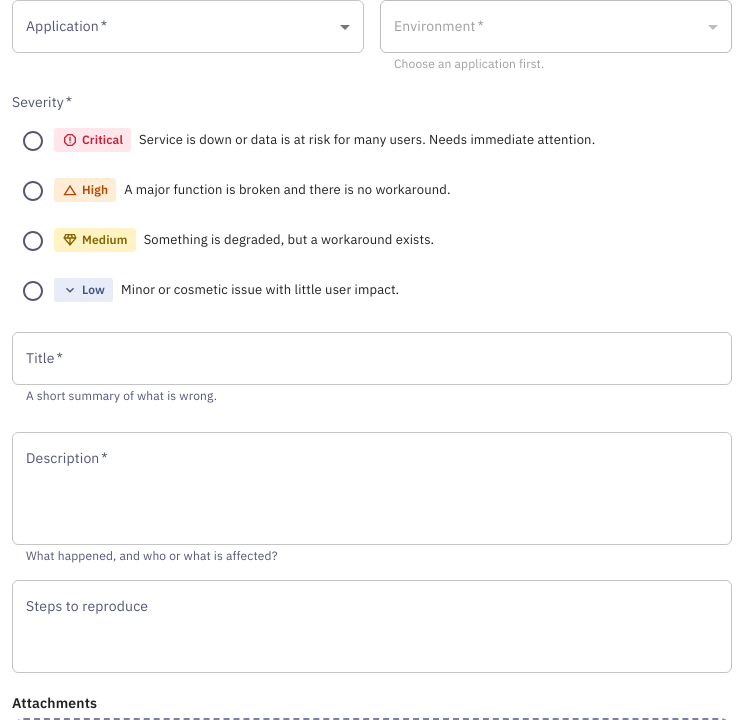
ReportIncidentForm › draft autosave › works when storage is blocked
Click the field labelled "Title *" at x=372, y=359, box x1=12 y1=332 x2=732 y2=385
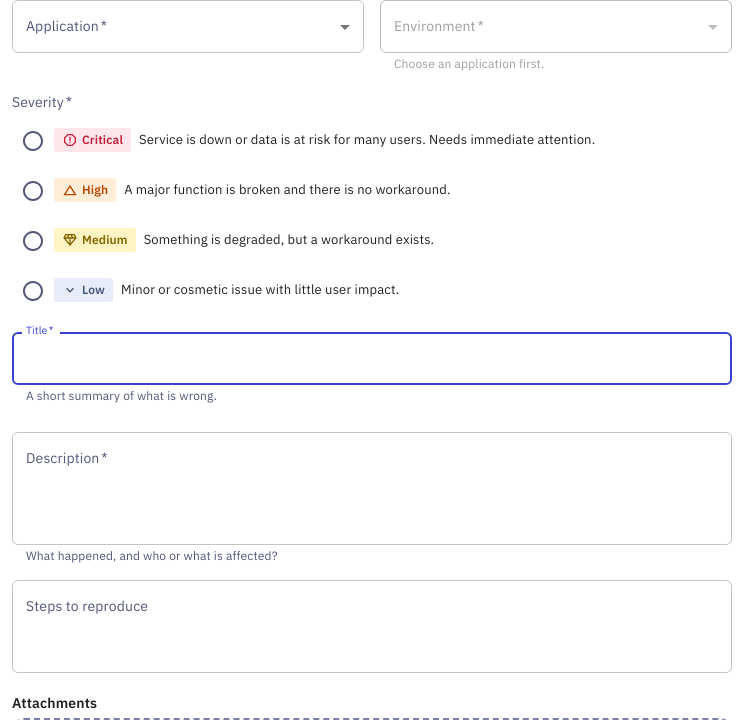
Type keys "Still typing"
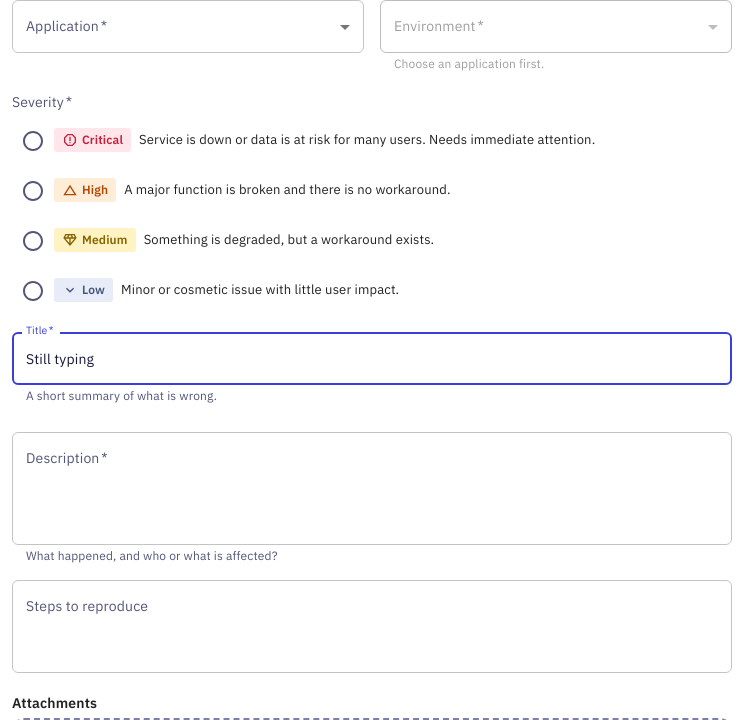
Expected: the field labelled "Title *" holds "Still typing", x1=12 y1=332 x2=732 y2=385
